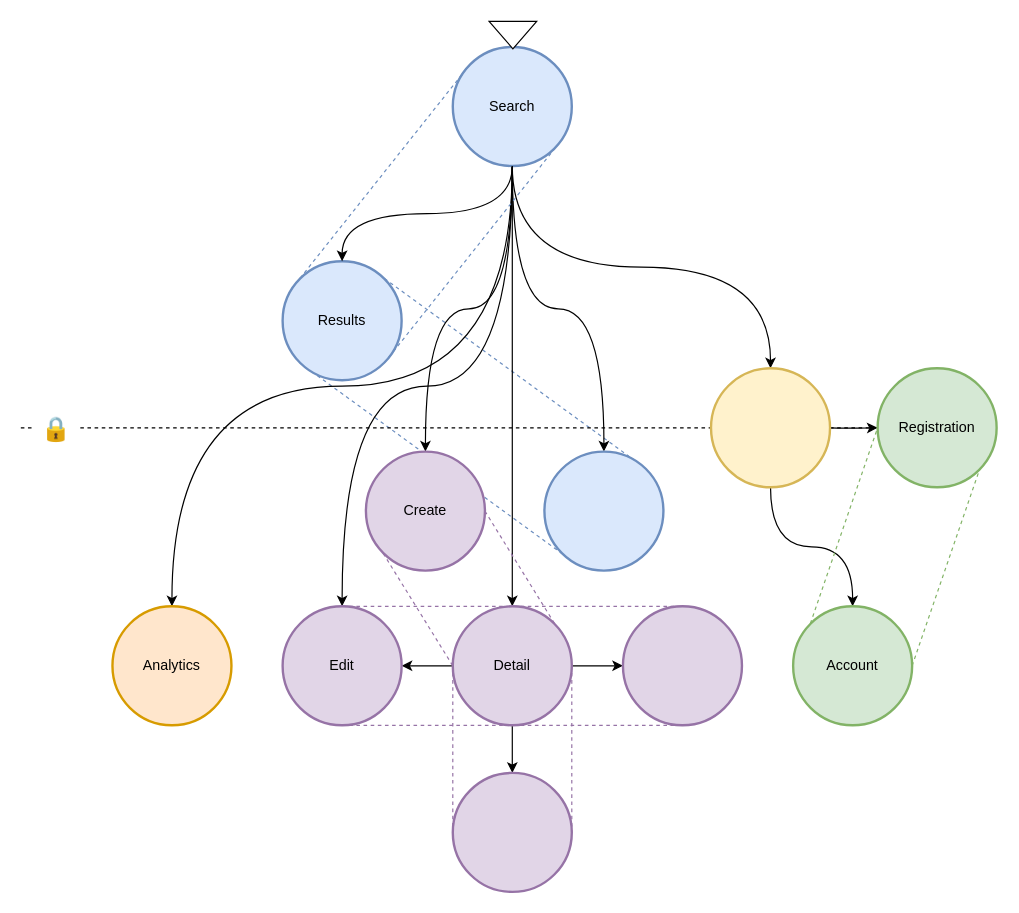
The diagram is 1019 pixels wide and 913 high, and some of its shapes have lost their labels. The centre of each missing label's shape, as x and y in pixels:
"Delete" belongs at [511,831].
"Download" belongs at [603,510].
"Login" belongs at [770,427].
"Version" belongs at [682,665].
